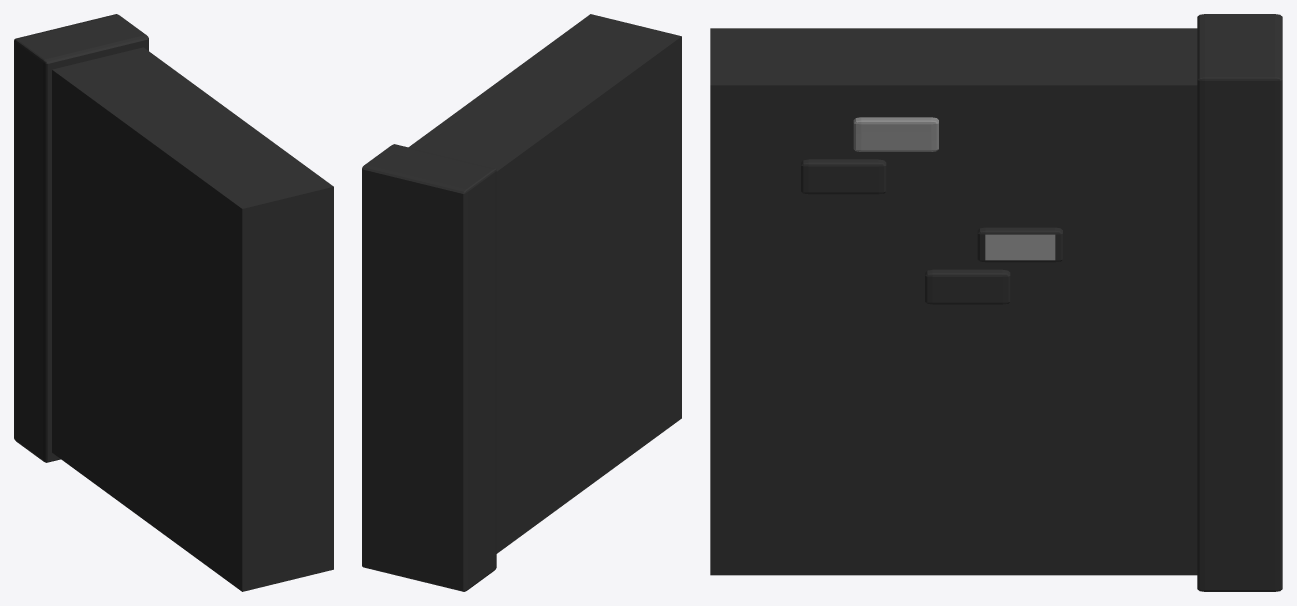
Rendered from reskined-wallpillarR1.fbx.
3 renders of one model, left to right at view 1: azimuth 30°, elevation 25°; view 2: azimuth 150°, elevation 25°; view 3: azimuth 270°, elevation 25°, orthographic. The views are drawn at different scales.
Parts seen in each view (by area): view 1: wallwPillar 2; view 2: wallwPillar 2; view 3: wallwPillar 2.
Boxes of the visible parts, x1=… form: wallwPillar 2: x1=14, y1=14, x2=333, y2=591; wallwPillar 2: x1=362, y1=14, x2=681, y2=591; wallwPillar 2: x1=710, y1=14, x2=1282, y2=591.
Size of the model in its own units: 114 by 420 by 423.
